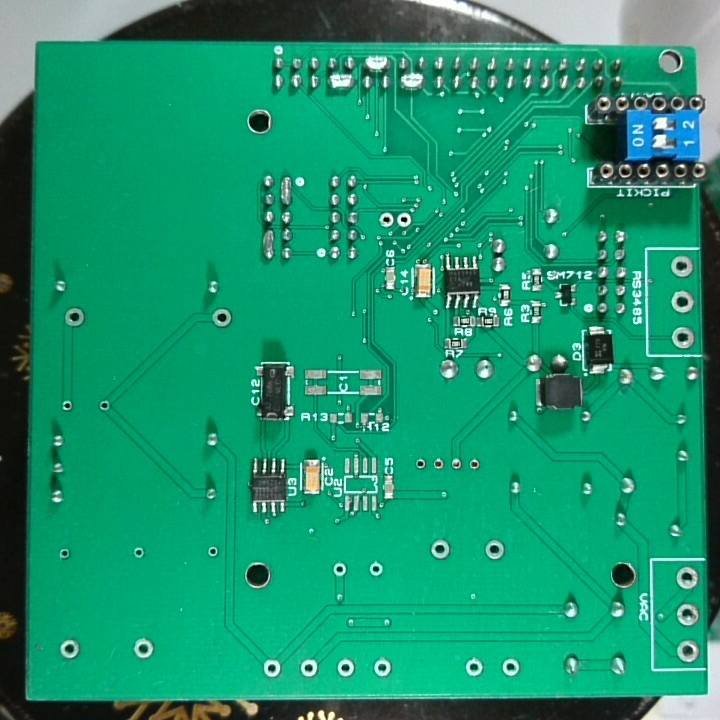F: (668, 253, 695, 280), (669, 288, 695, 315), (676, 637, 702, 664), (429, 537, 454, 563), (670, 325, 695, 350), (675, 565, 699, 591), (131, 637, 155, 663), (57, 638, 81, 663), (676, 603, 699, 629), (499, 657, 522, 683), (462, 655, 485, 680), (63, 306, 88, 329), (210, 307, 233, 330), (483, 538, 506, 561), (372, 658, 394, 679), (336, 657, 356, 679), (394, 208, 413, 231), (299, 657, 319, 678), (261, 658, 282, 678), (367, 560, 386, 580), (464, 455, 483, 475), (376, 210, 394, 230), (205, 543, 222, 563), (448, 454, 464, 475), (331, 560, 348, 578), (412, 455, 429, 473), (131, 543, 146, 563), (431, 455, 447, 473), (57, 546, 72, 563), (59, 398, 74, 415), (97, 398, 111, 415)
P: (326, 71, 359, 93), (362, 52, 392, 74), (398, 69, 426, 92), (277, 174, 294, 207), (260, 229, 277, 260)
